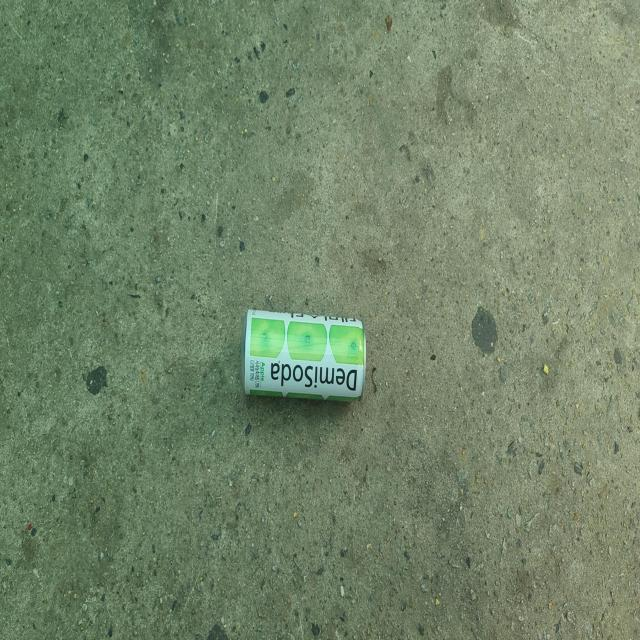can: (241, 308, 367, 402)
